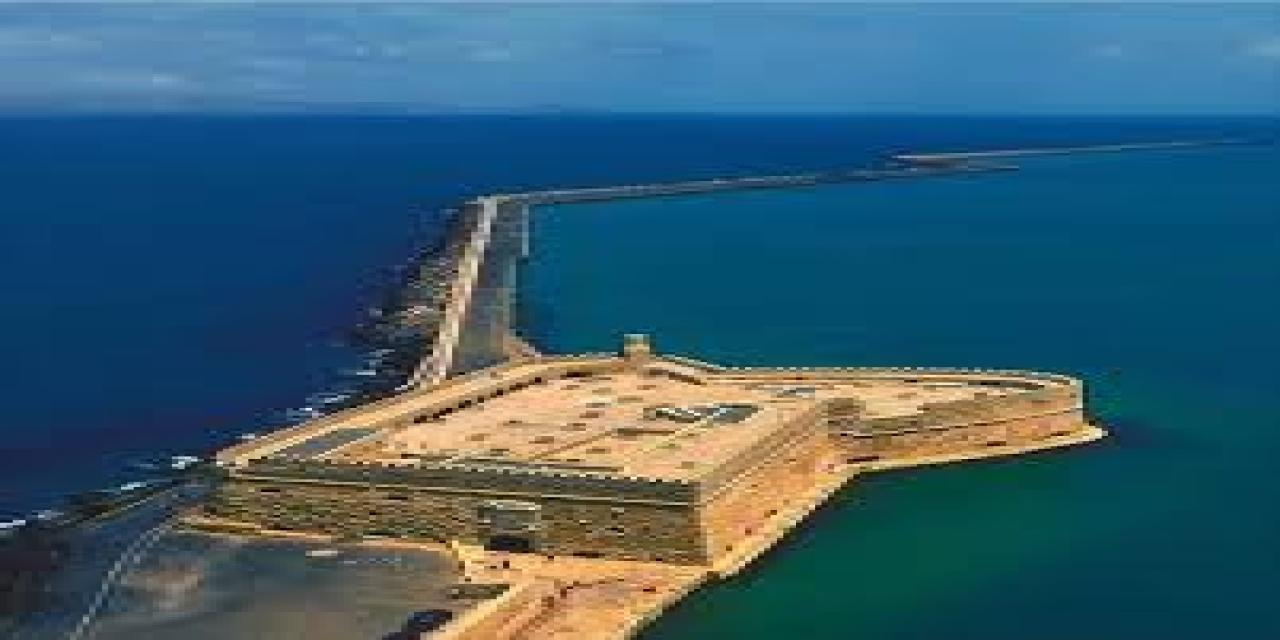Kules: (187, 334, 1120, 580)
